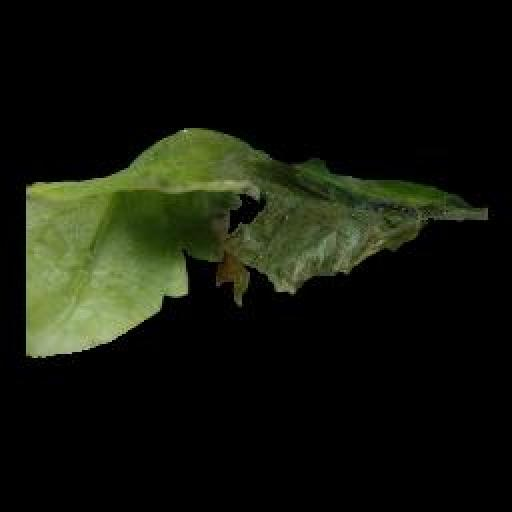Late Blight: (28, 124, 488, 363)
